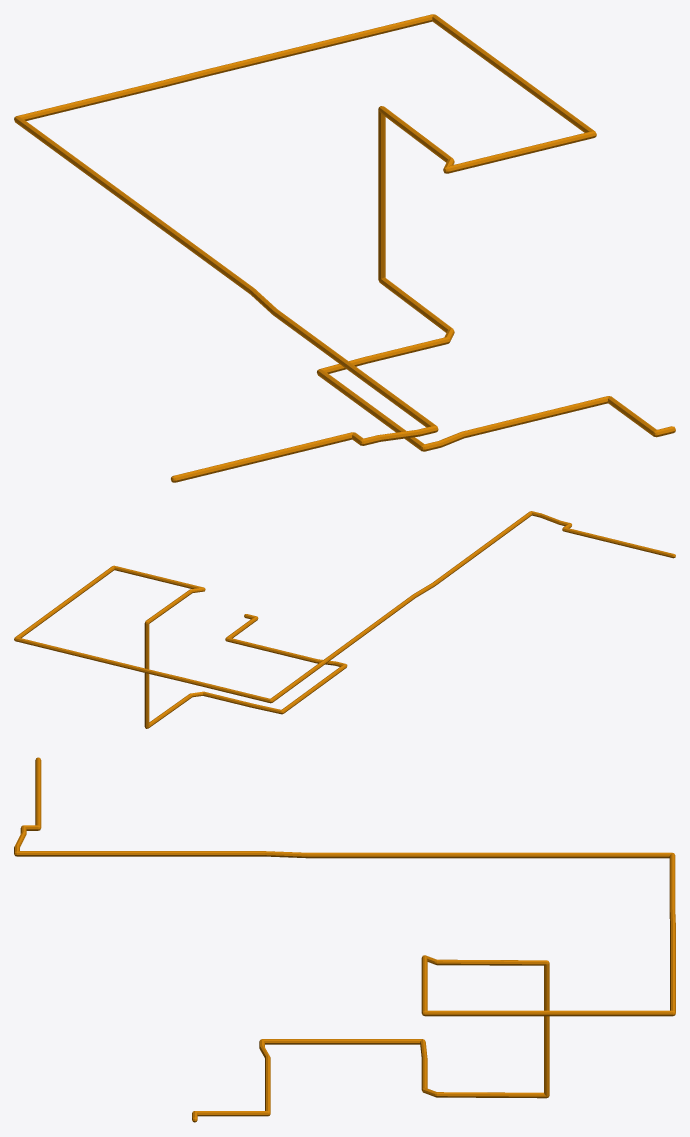
3 renders of one model, top to bottom at view 1: azimuth 30°, elevation 25°; view 2: azimuth 150°, elevation 25°; view 3: azimuth 270°, elevation 25°, orthographic. The views are drawn at different scales.
Bounding box in the file's own units: 2071 × 520 × 2266.
